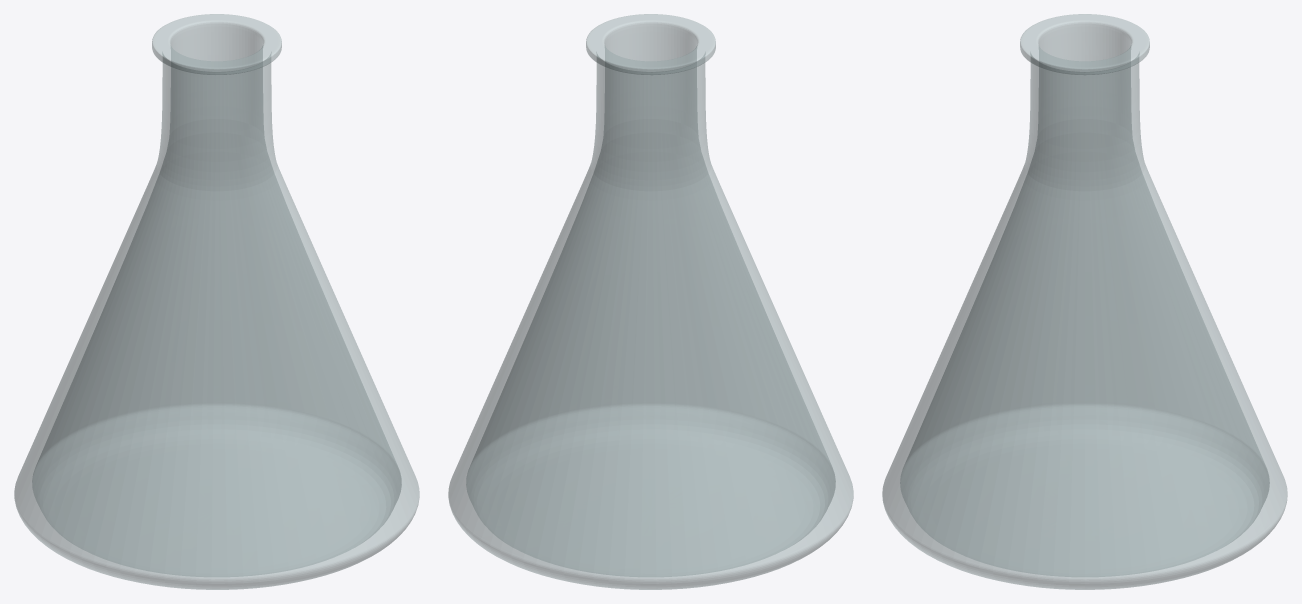
The model's file is flask-transformed.glb.
The picture shows the model from 3 angles, left to right: view 1: azimuth 30°, elevation 25°; view 2: azimuth 150°, elevation 25°; view 3: azimuth 270°, elevation 25°; orthographic projection.
Parts seen in each view (by area): view 1: pCylinder3; view 2: pCylinder3; view 3: pCylinder3.
Part boxes in pixels (left/top/right/bottom): pCylinder3: left=14, top=14, right=419, bottom=589; pCylinder3: left=448, top=14, right=853, bottom=589; pCylinder3: left=882, top=14, right=1287, bottom=589.
Bounding box in the file's own units: 0.0939 × 0.1213 × 0.0939.
